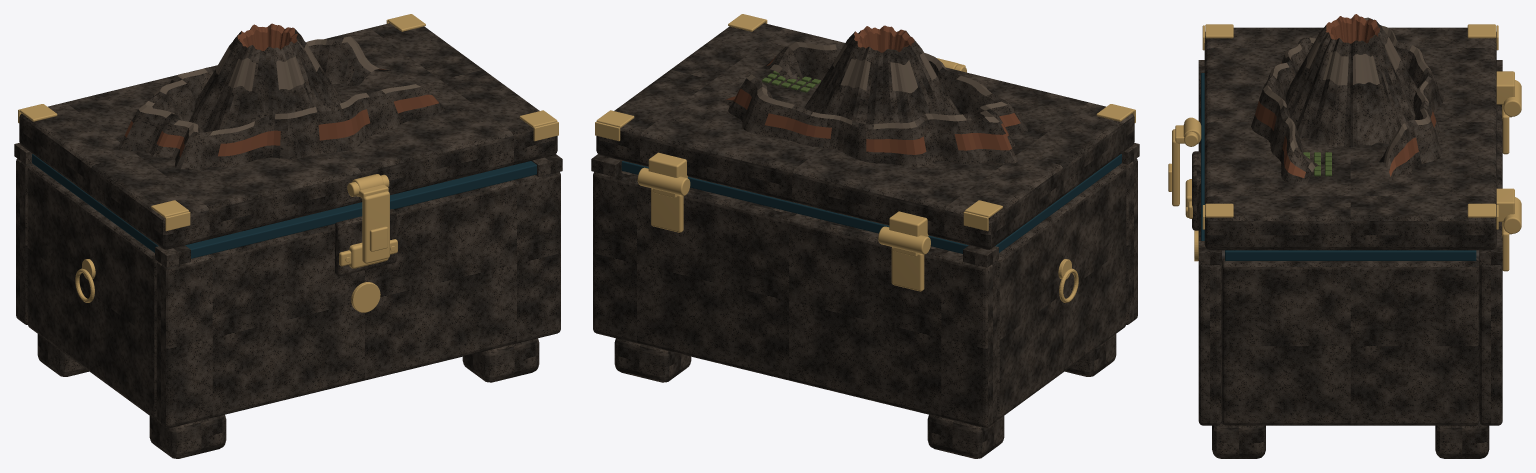
File: cabo-verde.glb
3 views of the same model, side by side, from view 1: azimuth 30°, elevation 25°; view 2: azimuth 150°, elevation 25°; view 3: azimuth 270°, elevation 25° (orthographic).
Parts seen in each view (by area): view 1: Scoria / front, Lid / polished slab, Scoria / side, Caldera / open east horseshoe, Fogo / cratered cone, Atlantic seam / long, Scoria / foot, Scoria / foot.002, Scoria / rear, Latch / lifting hasp, Scoria / clasp seat, Atlantic seam / side (+3 smaller); view 2: Scoria / rear, Lid / polished slab, Scoria / side, Caldera / open east horseshoe, Fogo / cratered cone, Atlantic seam / long.001, Scoria / foot.001, Scoria / foot.003, Scoria / front, Atlantic seam / side, Hinge / fixed mount, Hinge / fixed mount.001 (+6 smaller); view 3: Lid / polished slab, Scoria / side.001, Fogo / cratered cone, Caldera / open east horseshoe, Scoria / rear, Scoria / front, Atlantic seam / side.001, Scoria / foot.003, Scoria / foot.002, Atlantic seam / long, Scoria / clasp seat, Hinge / moving leaf (+10 smaller).
Part boxes in pixels (x1,y1,x2,y2): Scoria / front: (156,172,560,427); Lid / polished slab: (19,23,557,249); Scoria / side: (27,165,157,419); Caldera / open east horseshoe: (117,36,445,169); Fogo / cratered cone: (189,23,343,132); Atlantic seam / long: (185,161,536,258); Scoria / foot: (149,414,226,458); Scoria / foot.002: (462,338,539,382); Scoria / rear: (16,158,33,324); Latch / lifting hasp: (362,191,389,263); Scoria / clasp seat: (334,209,396,276); Atlantic seam / side: (32,154,158,252); Scoria / rear: (593,171,997,427); Lid / polished slab: (596,23,1134,249); Scoria / side: (996,165,1126,419); Caldera / open east horseshoe: (720,42,1027,167); Fogo / cratered cone: (804,25,960,124); Atlantic seam / long.001: (621,161,968,253); Scoria / foot.001: (927,414,1004,458); Scoria / foot.003: (614,338,691,382); Scoria / front: (1120,158,1137,324); Atlantic seam / side: (995,154,1121,252); Hinge / fixed mount: (891,247,924,291); Hinge / fixed mount.001: (651,188,683,232); Lid / polished slab: (1204,27,1496,250); Scoria / side.001: (1222,258,1479,425); Fogo / cratered cone: (1286,14,1417,147); Caldera / open east horseshoe: (1251,17,1443,184); Scoria / rear: (1479,104,1502,425); Scoria / front: (1198,84,1221,425); Atlantic seam / side.001: (1225,250,1476,260); Scoria / foot.003: (1435,423,1489,458); Scoria / foot.002: (1212,423,1265,458); Atlantic seam / long: (1201,73,1204,240); Scoria / clasp seat: (1192,151,1200,230); Hinge / moving leaf: (1496,71,1514,104).
Size of the model in its own units: 3.79 by 3.02 by 2.88.
Materials: 7 (1 with a texture image).
